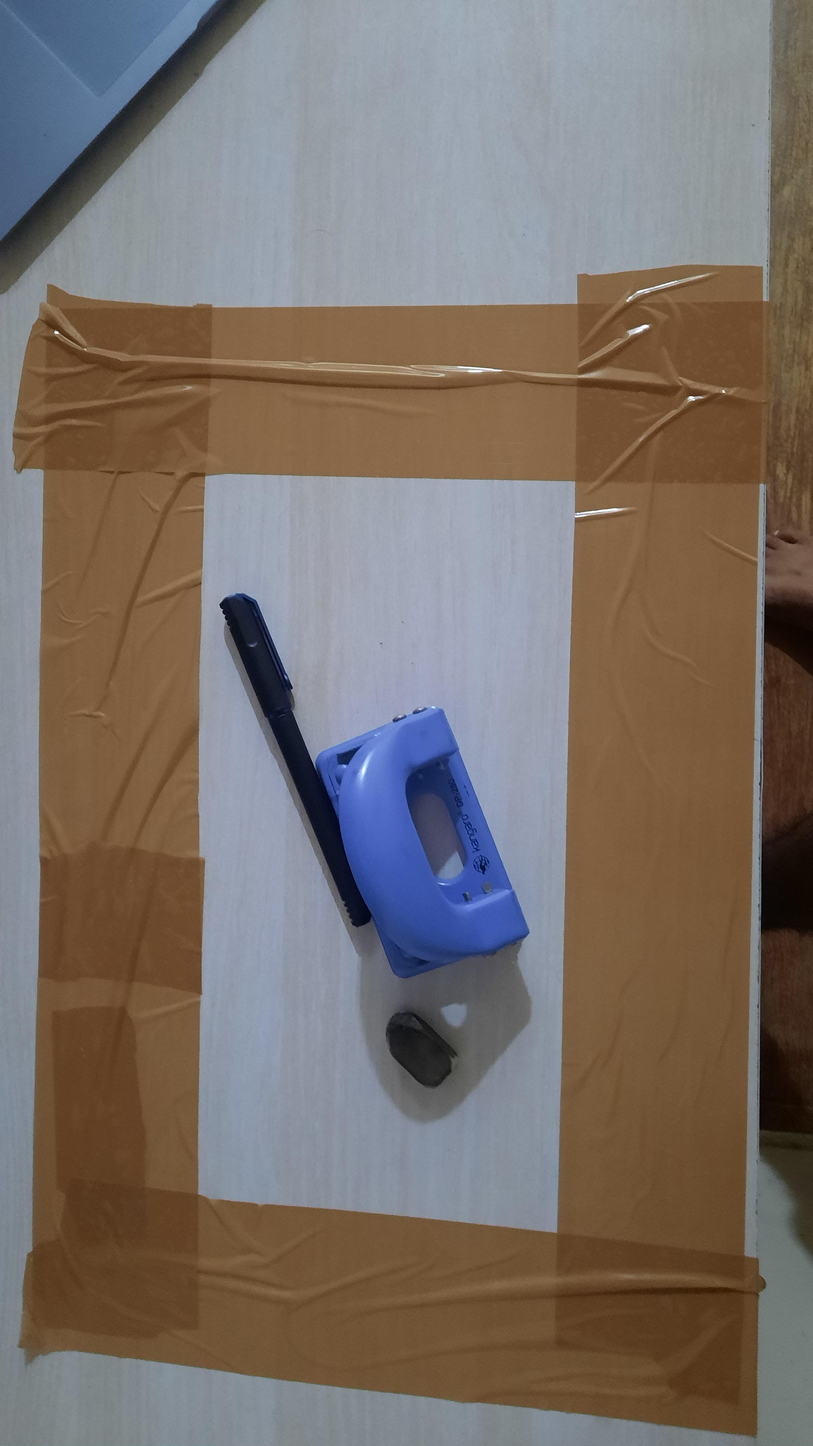Eraser: (385, 1010, 458, 1088)
Pen: (219, 592, 371, 928)
Punch: (315, 705, 530, 978)
